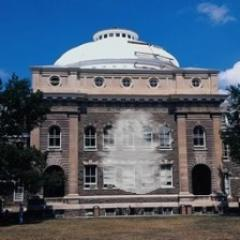smoke: (94, 109, 174, 194)
